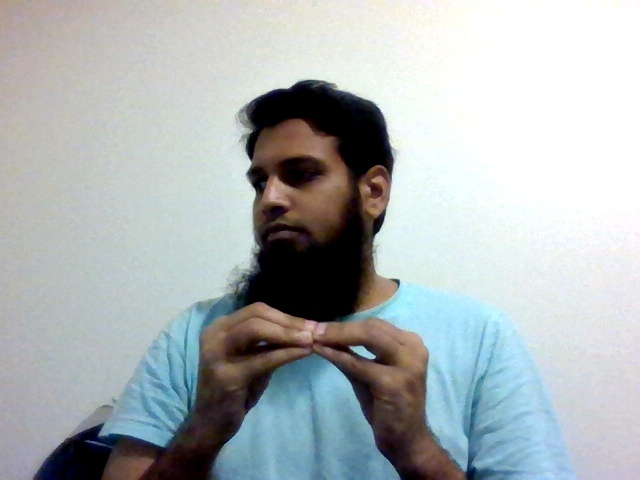more: (192, 299, 431, 458)
